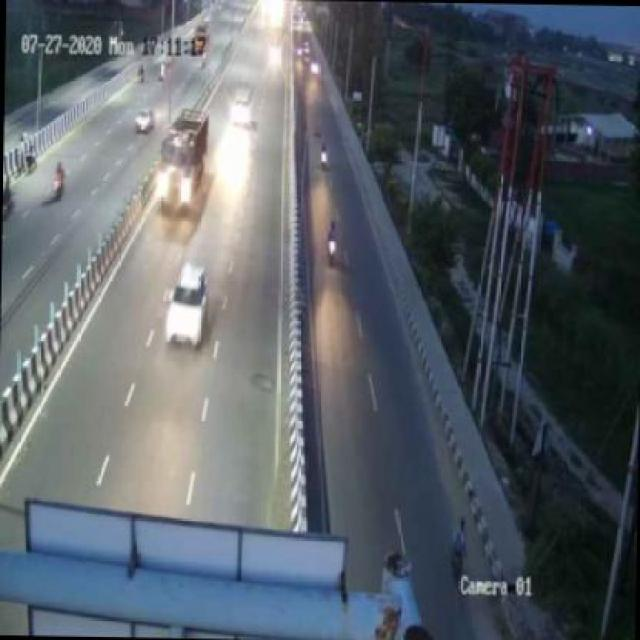car: (165, 260, 212, 351), (229, 84, 260, 128)
